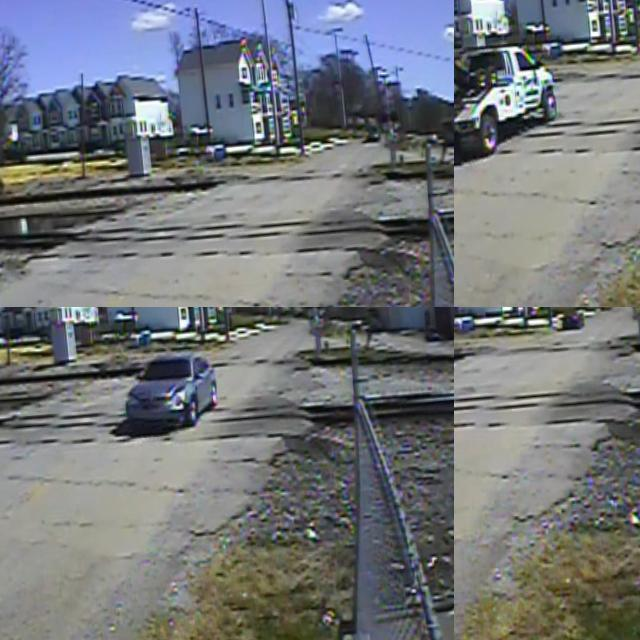barrier: (0, 0, 27, 125), (0, 307, 32, 403), (454, 307, 485, 404), (454, 0, 483, 99), (359, 26, 384, 100), (603, 307, 636, 344), (278, 307, 308, 347)
car: (118, 340, 224, 434), (556, 307, 586, 340), (361, 116, 382, 152)
rails: (0, 168, 454, 284), (0, 370, 454, 483), (0, 119, 454, 229), (0, 317, 454, 419), (454, 342, 640, 453), (454, 67, 640, 174), (454, 307, 640, 403), (454, 25, 640, 111)
traffic-signal: (0, 124, 31, 283), (454, 28, 485, 181), (454, 307, 484, 452), (0, 311, 29, 456), (367, 100, 408, 185), (289, 307, 340, 368), (620, 307, 640, 342)
truck: (454, 30, 560, 163)
